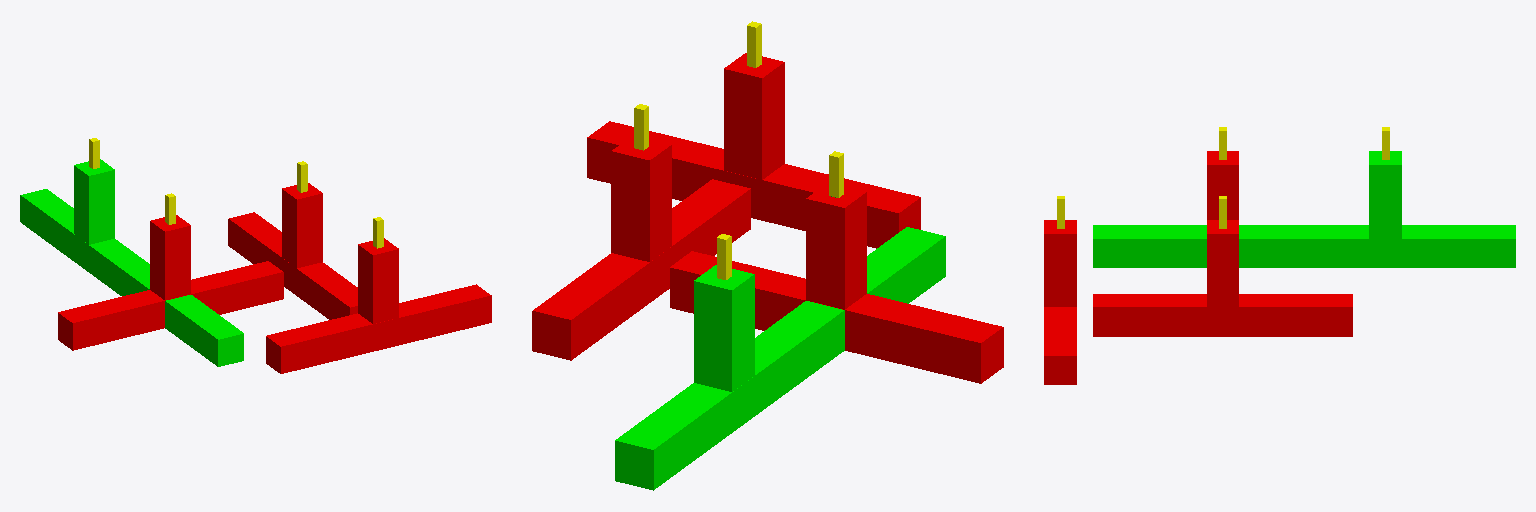
URDF robot description (simple_sliders4):
<?xml version="1.0"?>
<!-- created with Phobos 1.0.1 "Capricious Choutengan" -->
  <robot name="simple_sliders4">

    <link name="base_link">
    </link>

    <link name="goal">
      <visual name="visual_box_0_link_0.001">
        <origin xyz="0 0 0" rpy="0 0 0"/>
        <geometry>
          <box size="1.5974 0.1988 0.1988"/>
        </geometry>
        <material name="green_translucent"/>
      </visual>
    </link>

    <link name="link_0_joint_0">
      <visual name="visual_box_0_link_0">
        <origin xyz="0 0 0" rpy="0 0 0"/>
        <geometry>
          <box size="1.599 0.199 0.199"/>
        </geometry>
        <material name="green"/>
      </visual>
      <collision name="collision_box_0_link_0">
        <origin xyz="0 0 0" rpy="0 0 0"/>
        <geometry>
          <box size="1.599 0.199 0.199"/>
        </geometry>
      </collision>
    </link>

    <link name="link_1_joint_0">
      <visual name="visual_box_3_link_1">
        <origin xyz="0 0 0" rpy="0 0 0"/>
        <geometry>
          <box size="1.599 0.199 0.199"/>
        </geometry>
        <material name="red"/>
      </visual>
      <collision name="collision_box_3_link_1">
        <origin xyz="0 0 0" rpy="0 0 0"/>
        <geometry>
          <box size="1.599 0.199 0.199"/>
        </geometry>
      </collision>
    </link>

    <link name="link_2_joint_0">
      <visual name="visual_box_6_link_2">
        <origin xyz="0 0 0" rpy="0 0 0"/>
        <geometry>
          <box size="1.599 0.199 0.199"/>
        </geometry>
        <material name="red"/>
      </visual>
      <collision name="collision_box_6_link_2">
        <origin xyz="0 0 0" rpy="0 0 0"/>
        <geometry>
          <box size="1.599 0.199 0.199"/>
        </geometry>
      </collision>
    </link>

    <link name="link_3_joint_0">
      <visual name="visual_box_9_link_3">
        <origin xyz="0 0 0" rpy="0 0 0"/>
        <geometry>
          <box size="1.599 0.199 0.199"/>
        </geometry>
        <material name="red"/>
      </visual>
      <collision name="collision_box_9_link_3">
        <origin xyz="0 0 0" rpy="0 0 0"/>
        <geometry>
          <box size="1.599 0.199 0.199"/>
        </geometry>
      </collision>
    </link>

    <link name="link_fixed_10_handle_shaft">
      <visual name="visual_box_fixed_10_handle_shaft">
        <origin xyz="0 0 0" rpy="0 0 0"/>
        <geometry>
          <box size="0.199 0.199 0.499"/>
        </geometry>
        <material name="red"/>
      </visual>
      <collision name="collision_box_fixed_10_handle_shaft">
        <origin xyz="0 0 0" rpy="0 0 0"/>
        <geometry>
          <box size="0.199 0.199 0.499"/>
        </geometry>
      </collision>
    </link>

    <link name="link_fixed_11_handle_knob">
      <visual name="visual_box_fixed_11_handle_knob">
        <origin xyz="0 0 0" rpy="0 0 0"/>
        <geometry>
          <box size="0.049 0.049 0.199"/>
        </geometry>
        <material name="yellow"/>
      </visual>
      <collision name="collision_box_fixed_11_handle_knob">
        <origin xyz="0 0 0" rpy="0 0 0"/>
        <geometry>
          <box size="0.049 0.049 0.199"/>
        </geometry>
      </collision>
    </link>

    <link name="link_fixed_1_handle_shaft">
      <visual name="visual_box_fixed_1_handle_shaft">
        <origin xyz="0 0 0" rpy="0 0 0"/>
        <geometry>
          <box size="0.199 0.199 0.499"/>
        </geometry>
        <material name="green"/>
      </visual>
      <collision name="collision_box_fixed_1_handle_shaft">
        <origin xyz="0 0 0" rpy="0 0 0"/>
        <geometry>
          <box size="0.199 0.199 0.499"/>
        </geometry>
      </collision>
    </link>

    <link name="link_fixed_1_handle_shaft.001">
      <visual name="visual_box_fixed_1_handle_shaft.001">
        <origin xyz="0 0 0" rpy="0 0 0"/>
        <geometry>
          <box size="0.1988 0.1988 0.4985"/>
        </geometry>
        <material name="green_translucent"/>
      </visual>
    </link>

    <link name="link_fixed_2_handle_knob">
      <visual name="visual_box_fixed_2_handle_knob">
        <origin xyz="0 0 0" rpy="0 0 0"/>
        <geometry>
          <box size="0.049 0.049 0.199"/>
        </geometry>
        <material name="yellow"/>
      </visual>
      <collision name="collision_box_fixed_2_handle_knob">
        <origin xyz="0 0 0" rpy="0 0 0"/>
        <geometry>
          <box size="0.049 0.049 0.199"/>
        </geometry>
      </collision>
    </link>

    <link name="link_fixed_2_handle_knob.001">
      <visual name="visual_box_fixed_2_handle_knob.001">
        <origin xyz="0 0 0" rpy="0 0 0"/>
        <geometry>
          <box size="0.04895 0.04895 0.1988"/>
        </geometry>
        <material name="green_translucent"/>
      </visual>
    </link>

    <link name="link_fixed_4_handle_shaft">
      <visual name="visual_box_fixed_4_handle_shaft">
        <origin xyz="0 0 0" rpy="0 0 0"/>
        <geometry>
          <box size="0.199 0.199 0.499"/>
        </geometry>
        <material name="red"/>
      </visual>
      <collision name="collision_box_fixed_4_handle_shaft">
        <origin xyz="0 0 0" rpy="0 0 0"/>
        <geometry>
          <box size="0.199 0.199 0.499"/>
        </geometry>
      </collision>
    </link>

    <link name="link_fixed_5_handle_knob">
      <visual name="visual_box_fixed_5_handle_knob">
        <origin xyz="0 0 0" rpy="0 0 0"/>
        <geometry>
          <box size="0.049 0.049 0.199"/>
        </geometry>
        <material name="yellow"/>
      </visual>
      <collision name="collision_box_fixed_5_handle_knob">
        <origin xyz="0 0 0" rpy="0 0 0"/>
        <geometry>
          <box size="0.049 0.049 0.199"/>
        </geometry>
      </collision>
    </link>

    <link name="link_fixed_7_handle_shaft">
      <visual name="visual_box_fixed_7_handle_shaft">
        <origin xyz="0 0 0" rpy="0 0 0"/>
        <geometry>
          <box size="0.199 0.199 0.499"/>
        </geometry>
        <material name="red"/>
      </visual>
      <collision name="collision_box_fixed_7_handle_shaft">
        <origin xyz="0 0 0" rpy="0 0 0"/>
        <geometry>
          <box size="0.199 0.199 0.499"/>
        </geometry>
      </collision>
    </link>

    <link name="link_fixed_8_handle_knob">
      <visual name="visual_box_fixed_8_handle_knob">
        <origin xyz="0 0 0" rpy="0 0 0"/>
        <geometry>
          <box size="0.049 0.049 0.199"/>
        </geometry>
        <material name="yellow"/>
      </visual>
      <collision name="collision_box_fixed_8_handle_knob">
        <origin xyz="0 0 0" rpy="0 0 0"/>
        <geometry>
          <box size="0.049 0.049 0.199"/>
        </geometry>
      </collision>
    </link>

    <joint name="goal" type="fixed">
      <origin xyz="0 -1.0 0.1" rpy="0 0 -1.5708"/>
      <parent link="base_link"/>
      <child link="goal"/>
      <limit effort="0" velocity="0"/>
    </joint>

    <joint name="link_0_joint_0" type="prismatic">
      <origin xyz="0 0 0.1" rpy="0 0 -1.5708"/>
      <parent link="base_link"/>
      <child link="link_0_joint_0"/>
      <axis xyz="1.0 0 0"/>
      <limit lower="0" upper="1.0" effort="0" velocity="0"/>
    </joint>

    <joint name="link_1_joint_0" type="prismatic">
      <origin xyz="0 -1.0 0.1" rpy="0 0 0"/>
      <parent link="base_link"/>
      <child link="link_1_joint_0"/>
      <axis xyz="1.0 0 0"/>
      <limit lower="0" upper="1.0" effort="0" velocity="0"/>
    </joint>

    <joint name="link_2_joint_0" type="prismatic">
      <origin xyz="1.0 -1.0 0.1" rpy="0 0 -1.5708"/>
      <parent link="base_link"/>
      <child link="link_2_joint_0"/>
      <axis xyz="1.0 0 0"/>
      <limit lower="0" upper="1.0" effort="0" velocity="0"/>
    </joint>

    <joint name="link_3_joint_0" type="prismatic">
      <origin xyz="1.0 -2.0 0.1" rpy="0 0 0"/>
      <parent link="base_link"/>
      <child link="link_3_joint_0"/>
      <axis xyz="1.0 0 0"/>
      <limit lower="0" upper="1.0" effort="0" velocity="0"/>
    </joint>

    <joint name="link_fixed_10_handle_shaft" type="fixed">
      <origin xyz="0 0 0.35" rpy="0 0 0"/>
      <parent link="link_3_joint_0"/>
      <child link="link_fixed_10_handle_shaft"/>
    </joint>

    <joint name="link_fixed_11_handle_knob" type="fixed">
      <origin xyz="0 0 0.35" rpy="0 0 0"/>
      <parent link="link_fixed_10_handle_shaft"/>
      <child link="link_fixed_11_handle_knob"/>
    </joint>

    <joint name="link_fixed_1_handle_shaft" type="fixed">
      <origin xyz="0 0 0.35" rpy="0 0 0"/>
      <parent link="link_0_joint_0"/>
      <child link="link_fixed_1_handle_shaft"/>
    </joint>

    <joint name="link_fixed_1_handle_shaft.001" type="fixed">
      <origin xyz="0 0 0.34965" rpy="0 0 0"/>
      <parent link="goal"/>
      <child link="link_fixed_1_handle_shaft.001"/>
    </joint>

    <joint name="link_fixed_2_handle_knob" type="fixed">
      <origin xyz="0 0 0.35" rpy="0 0 0"/>
      <parent link="link_fixed_1_handle_shaft"/>
      <child link="link_fixed_2_handle_knob"/>
    </joint>

    <joint name="link_fixed_2_handle_knob.001" type="fixed">
      <origin xyz="0 0 0.34965" rpy="0 0 0"/>
      <parent link="link_fixed_1_handle_shaft.001"/>
      <child link="link_fixed_2_handle_knob.001"/>
    </joint>

    <joint name="link_fixed_4_handle_shaft" type="fixed">
      <origin xyz="0 0 0.35" rpy="0 0 0"/>
      <parent link="link_1_joint_0"/>
      <child link="link_fixed_4_handle_shaft"/>
    </joint>

    <joint name="link_fixed_5_handle_knob" type="fixed">
      <origin xyz="0 0 0.35" rpy="0 0 0"/>
      <parent link="link_fixed_4_handle_shaft"/>
      <child link="link_fixed_5_handle_knob"/>
    </joint>

    <joint name="link_fixed_7_handle_shaft" type="fixed">
      <origin xyz="0 0 0.35" rpy="0 0 0"/>
      <parent link="link_2_joint_0"/>
      <child link="link_fixed_7_handle_shaft"/>
    </joint>

    <joint name="link_fixed_8_handle_knob" type="fixed">
      <origin xyz="0 0 0.35" rpy="0 0 0"/>
      <parent link="link_fixed_7_handle_shaft"/>
      <child link="link_fixed_8_handle_knob"/>
    </joint>

    <material name="green">
      <color rgba="0 1.0 0 1.0"/>
    </material>

    <material name="green_translucent">
      <color rgba="0 1.0 0 0.25"/>
    </material>

    <material name="red">
      <color rgba="1.0 0 0 1.0"/>
    </material>

    <material name="yellow">
      <color rgba="1.0 1.0 0 1.0"/>
    </material>

  </robot>

--- Facts derived from the render (not from the file) ---
Views: 3 orthographic renders of the robot side by side, from view 1: azimuth 30°, elevation 25°; view 2: azimuth 150°, elevation 25°; view 3: azimuth 270°, elevation 25°.
Model simple_sliders4 with 16 links and 15 joints (4 prismatic, 11 fixed), rooted at base_link, posed every joint at zero.
Links seen in each view (by area): view 1: link_3_joint_0, link_1_joint_0, link_0_joint_0, link_2_joint_0, goal, link_fixed_10_handle_shaft, link_fixed_4_handle_shaft, link_fixed_1_handle_shaft, link_fixed_7_handle_shaft; view 2: link_0_joint_0, link_1_joint_0, link_2_joint_0, link_3_joint_0, link_fixed_10_handle_shaft, link_fixed_1_handle_shaft, link_fixed_4_handle_shaft, link_fixed_7_handle_shaft, goal, link_fixed_5_handle_knob, link_fixed_11_handle_knob, link_fixed_2_handle_knob (+1 smaller); view 3: link_2_joint_0, link_0_joint_0, goal, link_fixed_1_handle_shaft, link_fixed_10_handle_shaft, link_fixed_7_handle_shaft, link_3_joint_0, link_fixed_4_handle_shaft.
Boxes of the visible links, x1=… form: link_3_joint_0: x1=266, y1=284, x2=491, y2=373; link_1_joint_0: x1=58, y1=261, x2=283, y2=350; link_0_joint_0: x1=20, y1=189, x2=149, y2=295; link_2_joint_0: x1=228, y1=212, x2=357, y2=319; goal: x1=142, y1=282, x2=243, y2=366; link_fixed_10_handle_shaft: x1=358, y1=238, x2=398, y2=323; link_fixed_4_handle_shaft: x1=150, y1=215, x2=190, y2=300; link_fixed_1_handle_shaft: x1=74, y1=159, x2=114, y2=244; link_fixed_7_handle_shaft: x1=282, y1=183, x2=322, y2=267; link_0_joint_0: x1=615, y1=309, x2=832, y2=490; link_1_joint_0: x1=670, y1=251, x2=1003, y2=383; link_2_joint_0: x1=532, y1=179, x2=750, y2=360; link_3_joint_0: x1=587, y1=121, x2=920, y2=248; link_fixed_10_handle_shaft: x1=724, y1=53, x2=784, y2=179; link_fixed_1_handle_shaft: x1=694, y1=265, x2=754, y2=391; link_fixed_4_handle_shaft: x1=806, y1=182, x2=866, y2=309; link_fixed_7_handle_shaft: x1=611, y1=135, x2=671, y2=261; goal: x1=795, y1=227, x2=945, y2=358; link_fixed_5_handle_knob: x1=829, y1=151, x2=843, y2=197; link_fixed_11_handle_knob: x1=747, y1=21, x2=761, y2=67; link_fixed_2_handle_knob: x1=717, y1=234, x2=731, y2=279; link_2_joint_0: x1=1093, y1=294, x2=1352, y2=336; link_0_joint_0: x1=1256, y1=225, x2=1515, y2=267; goal: x1=1093, y1=225, x2=1255, y2=267; link_fixed_1_handle_shaft: x1=1369, y1=151, x2=1401, y2=238; link_fixed_10_handle_shaft: x1=1044, y1=220, x2=1076, y2=306; link_fixed_7_handle_shaft: x1=1207, y1=220, x2=1238, y2=306; link_3_joint_0: x1=1044, y1=307, x2=1076, y2=384; link_fixed_4_handle_shaft: x1=1207, y1=151, x2=1238, y2=219.
Bounding box of the posed robot: 2.6 × 2.9 × 0.899 m (x, y, z).
Geometry: primitives only (box / cylinder / sphere), no mesh files.